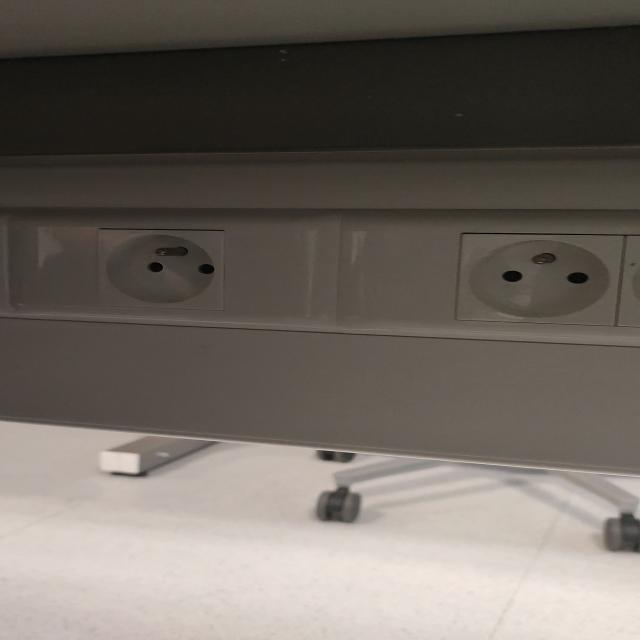house plug: (455, 234, 624, 327), (98, 228, 225, 309)
